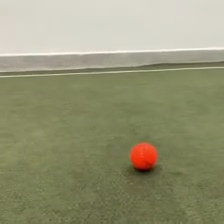ball: (127, 140, 158, 174)
